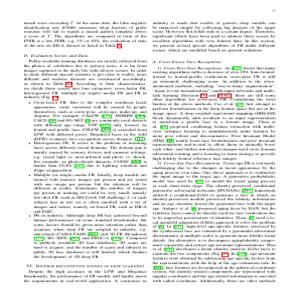text: (151, 17, 280, 285), (21, 18, 150, 285)
